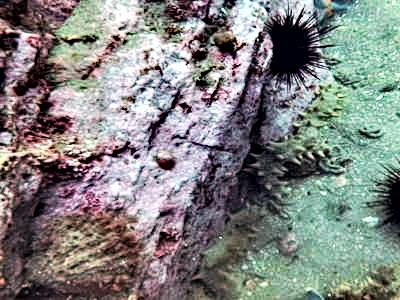urchin: (255, 1, 343, 95), (363, 156, 396, 234)
